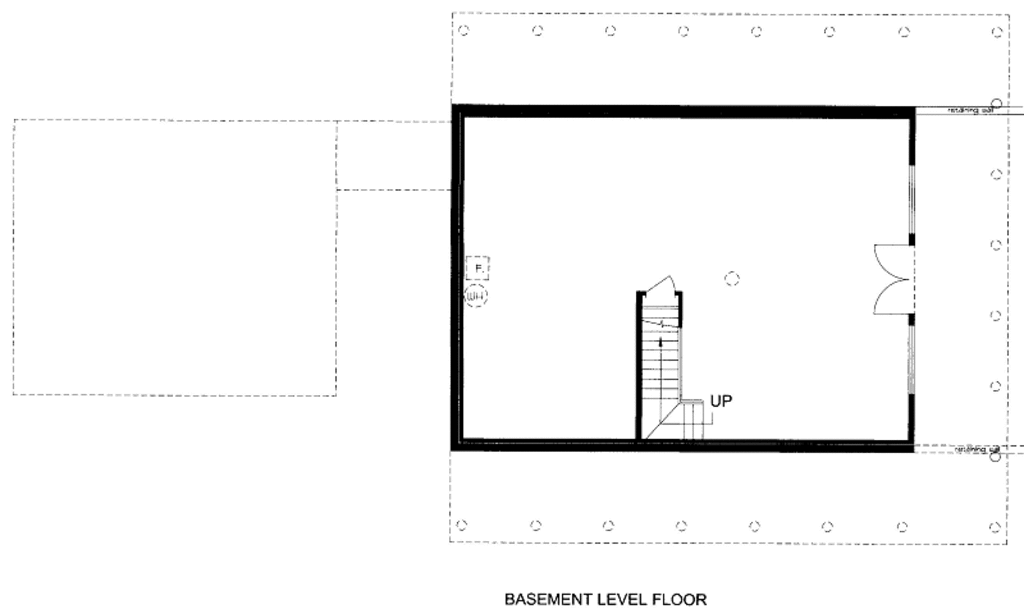door: (867, 233, 922, 323), (640, 267, 689, 294)
stairs: (635, 290, 708, 442)
window: (900, 162, 921, 232), (906, 328, 918, 402)
